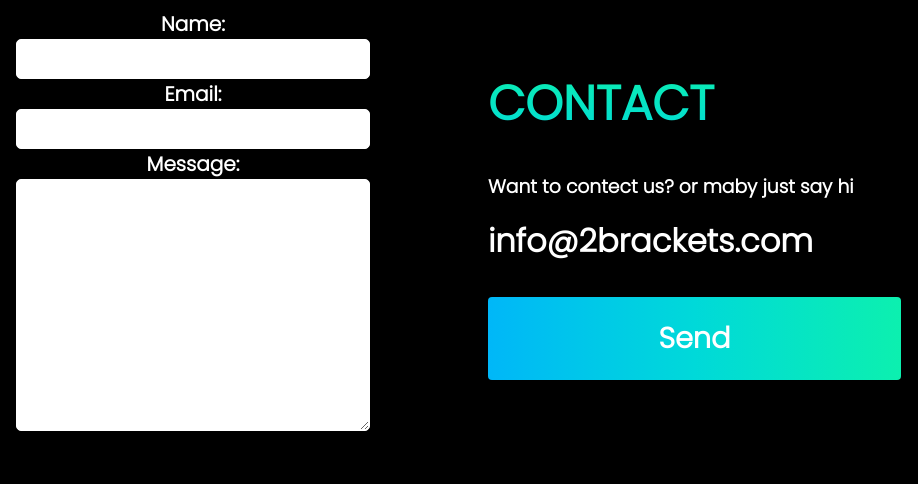
renders status Message with no input
The image size is (918, 484).
Click the button.
click(694, 338)  # box left=488, top=296, right=901, bottom=380
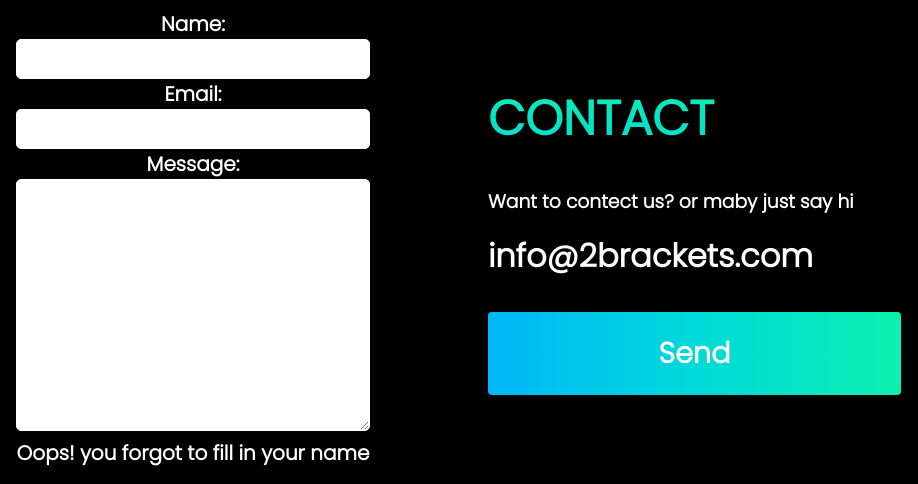
Expected: the text "Oops! you forgot to fill in your name" is shown, left=17, top=439, right=369, bottom=467
